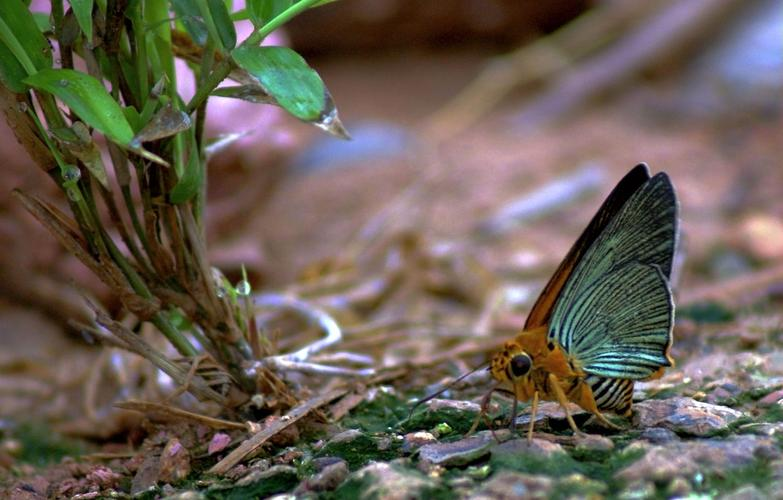Hesperiidae: (411, 157, 683, 438)
